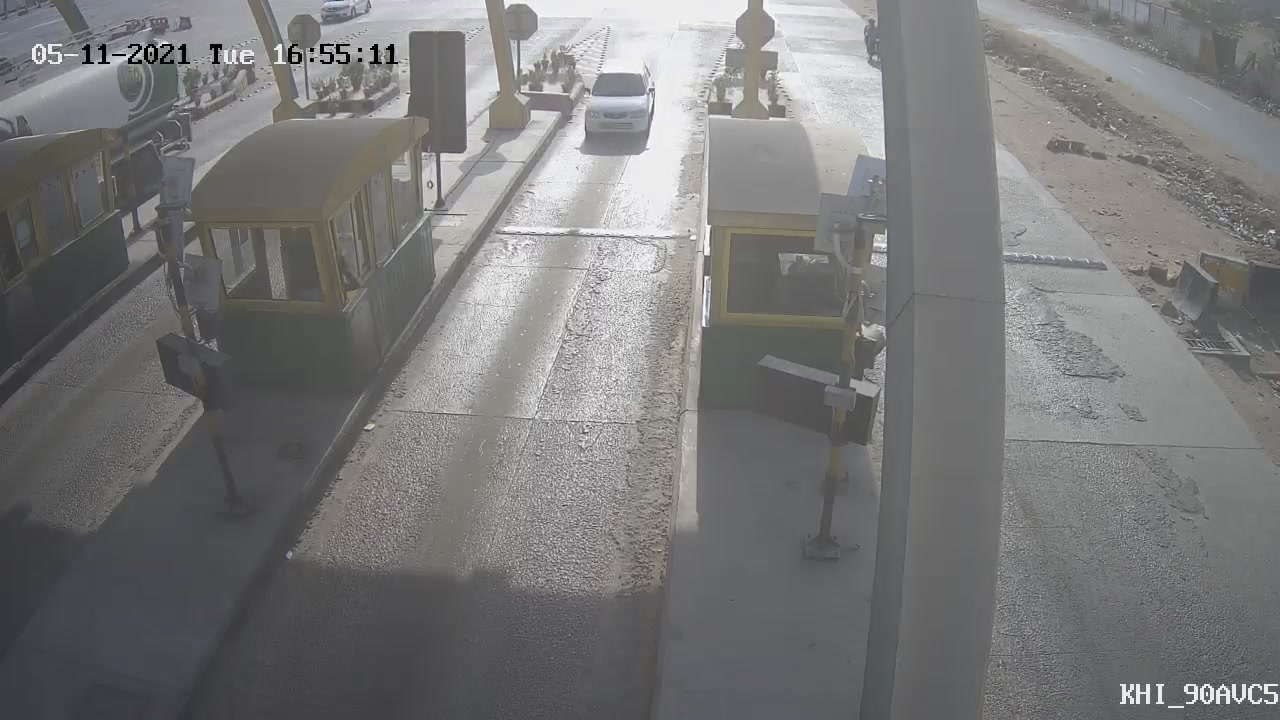F1: (564, 44, 672, 159)
